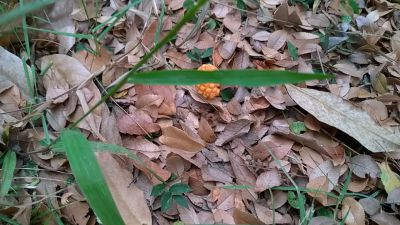eggs: (194, 60, 222, 99)
